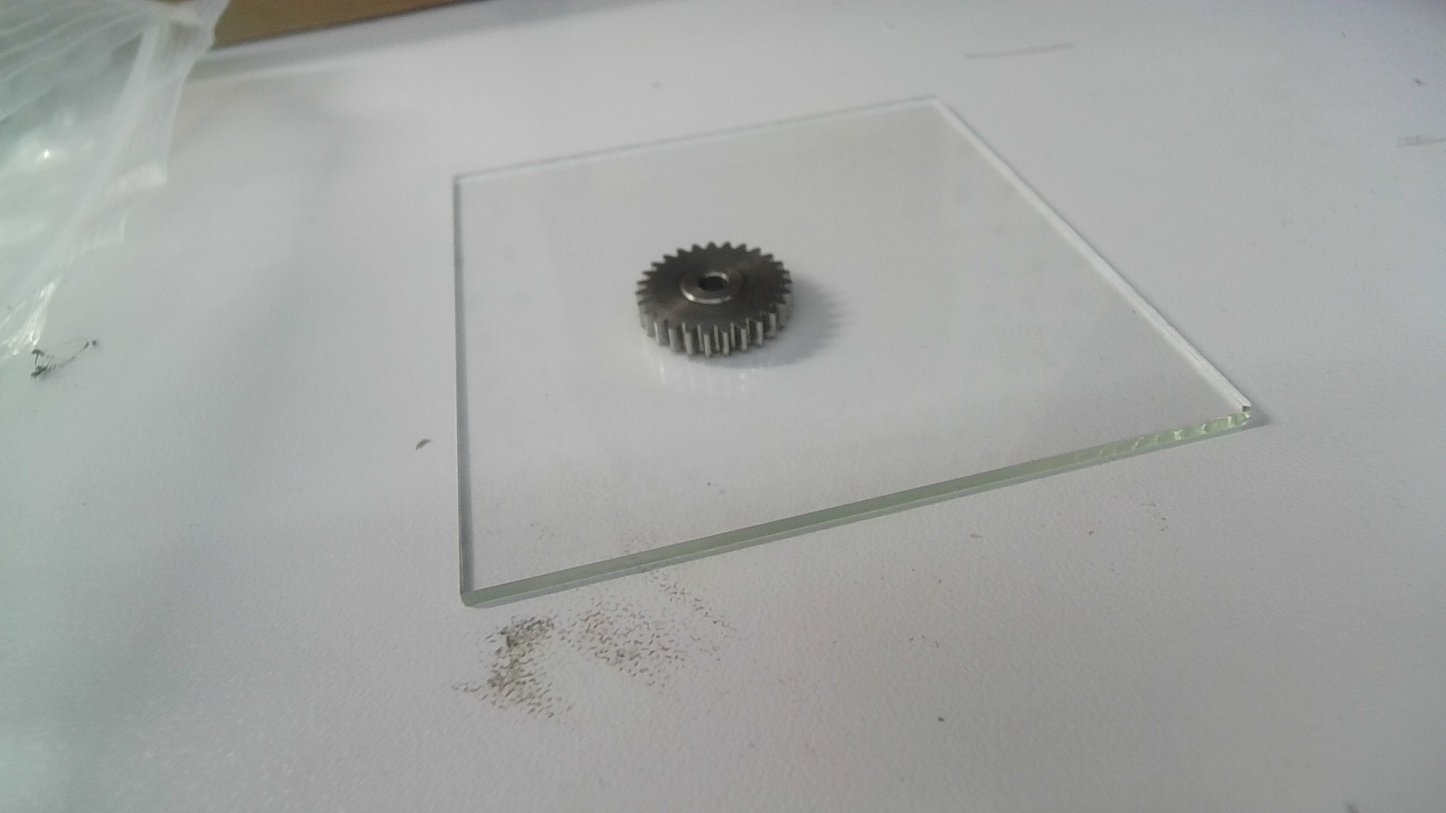gear: (632, 239, 798, 361)
